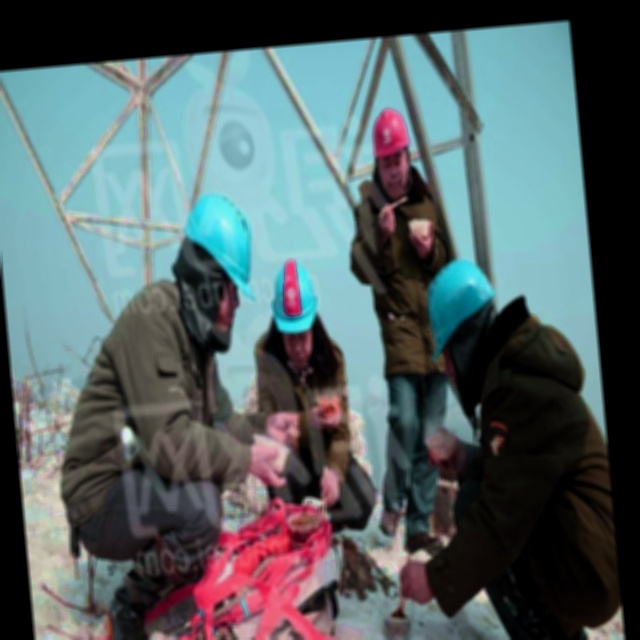Con_Casco: (422, 253, 500, 384), (370, 108, 413, 198)
